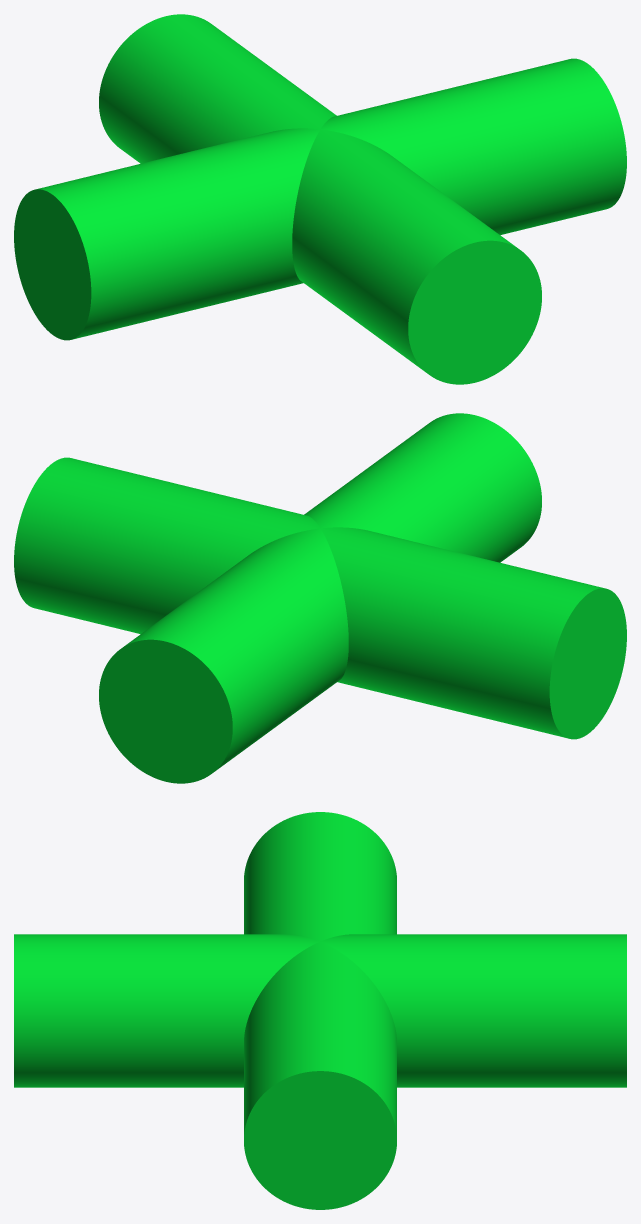
File: cross.glb
3 views of the same model, one above another, from view 1: azimuth 30°, elevation 25°; view 2: azimuth 150°, elevation 25°; view 3: azimuth 270°, elevation 25° (orthographic).
Visible parts, largest first — view 1: X; view 2: X; view 3: X.
Part boxes in pixels (x1,y1,x2,y2): X: (14,14,626,384); X: (14,413,626,783); X: (14,812,626,1209).
Bounding box in the file's own units: 2 × 0.5 × 2.
